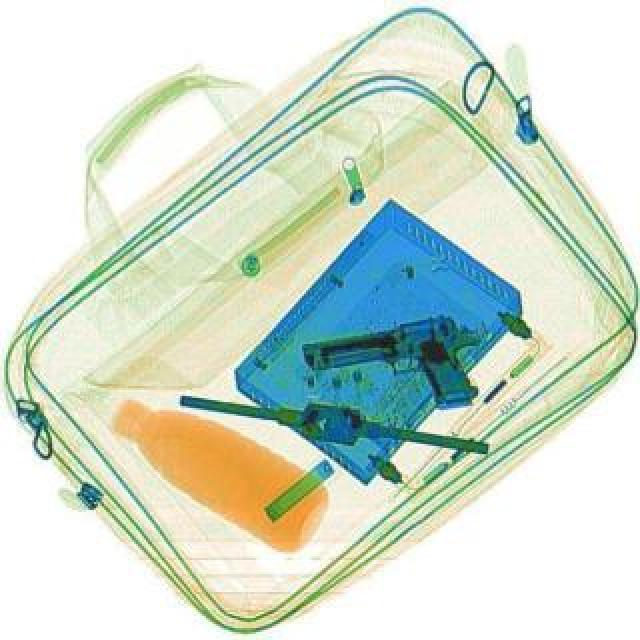gun: (296, 306, 490, 428)
